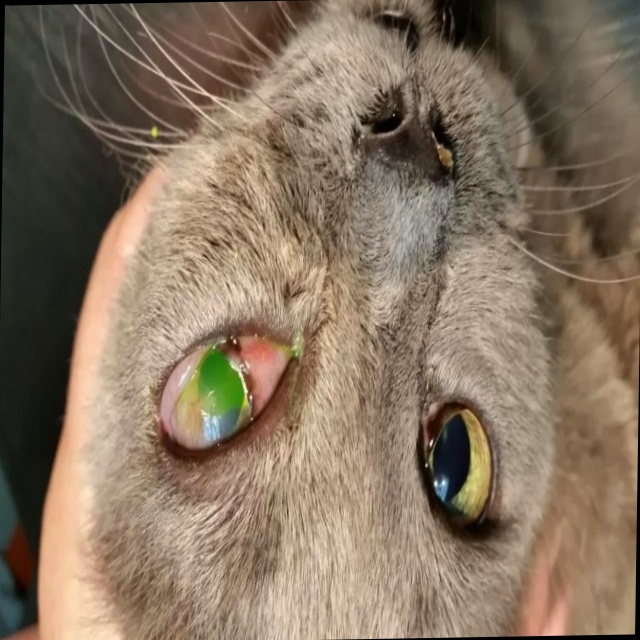eye_infection: (156, 346, 284, 460), (417, 391, 497, 537)
